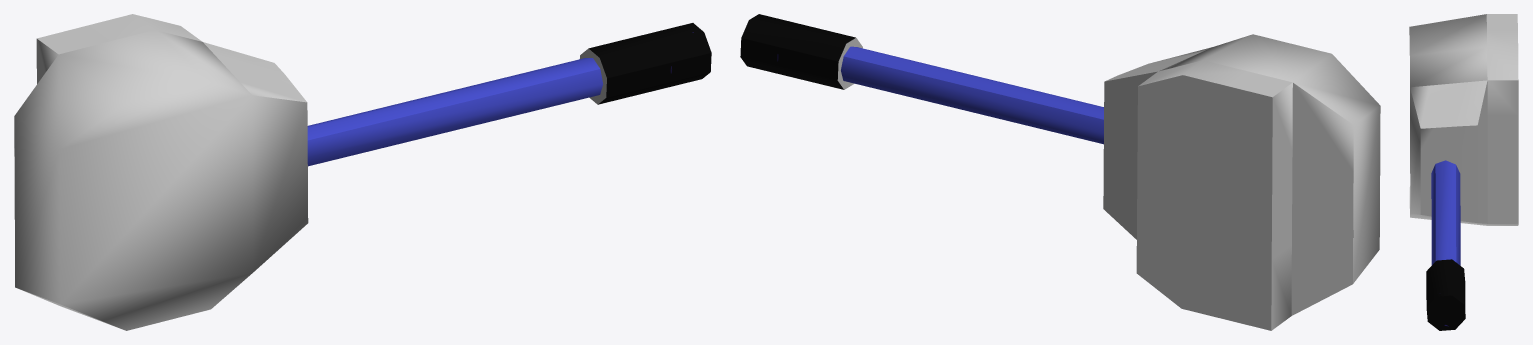
File: tank-weapon.fbx
The picture shows the model from 3 angles, left to right: view 1: azimuth 30°, elevation 25°; view 2: azimuth 150°, elevation 25°; view 3: azimuth 270°, elevation 25°; orthographic projection. The views are drawn at different scales.
Visible parts, largest first — view 1: Cube_Nonegr_n-met, Cube_Noneblue.png, Cube_NoneBlack.pn; view 2: Cube_Nonegr_n-met, Cube_Noneblue.png, Cube_NoneBlack.pn; view 3: Cube_Nonegr_n-met, Cube_Noneblue.png, Cube_NoneBlack.pn.
Boxes of the visible parts, x1,y1,x2,y2 form: Cube_Nonegr_n-met: (14,14,606,330); Cube_Noneblue.png: (307,58,603,166); Cube_NoneBlack.pn: (589,23,711,104); Cube_Nonegr_n-met: (837,34,1380,330); Cube_Noneblue.png: (841,46,1103,144); Cube_NoneBlack.pn: (740,14,855,89); Cube_Nonegr_n-met: (1409,14,1518,225); Cube_Noneblue.png: (1431,160,1460,265); Cube_NoneBlack.pn: (1426,259,1465,330).
Bounding box in the file's own units: 6.9 × 2.51 × 1.39.
